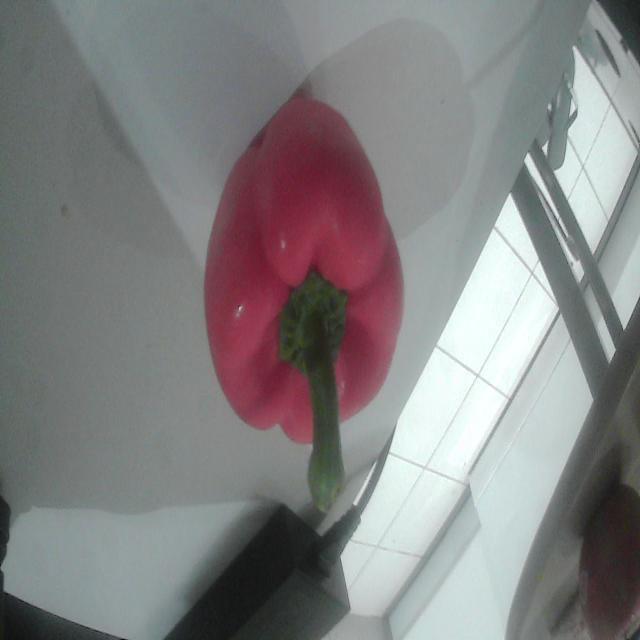Bell Pepper: (204, 94, 403, 508)
